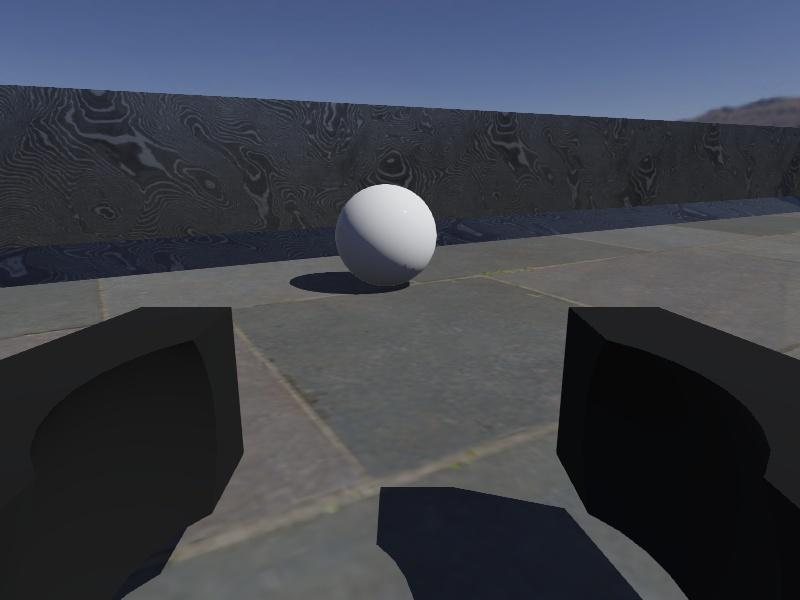white ball: (334, 182, 438, 288)
